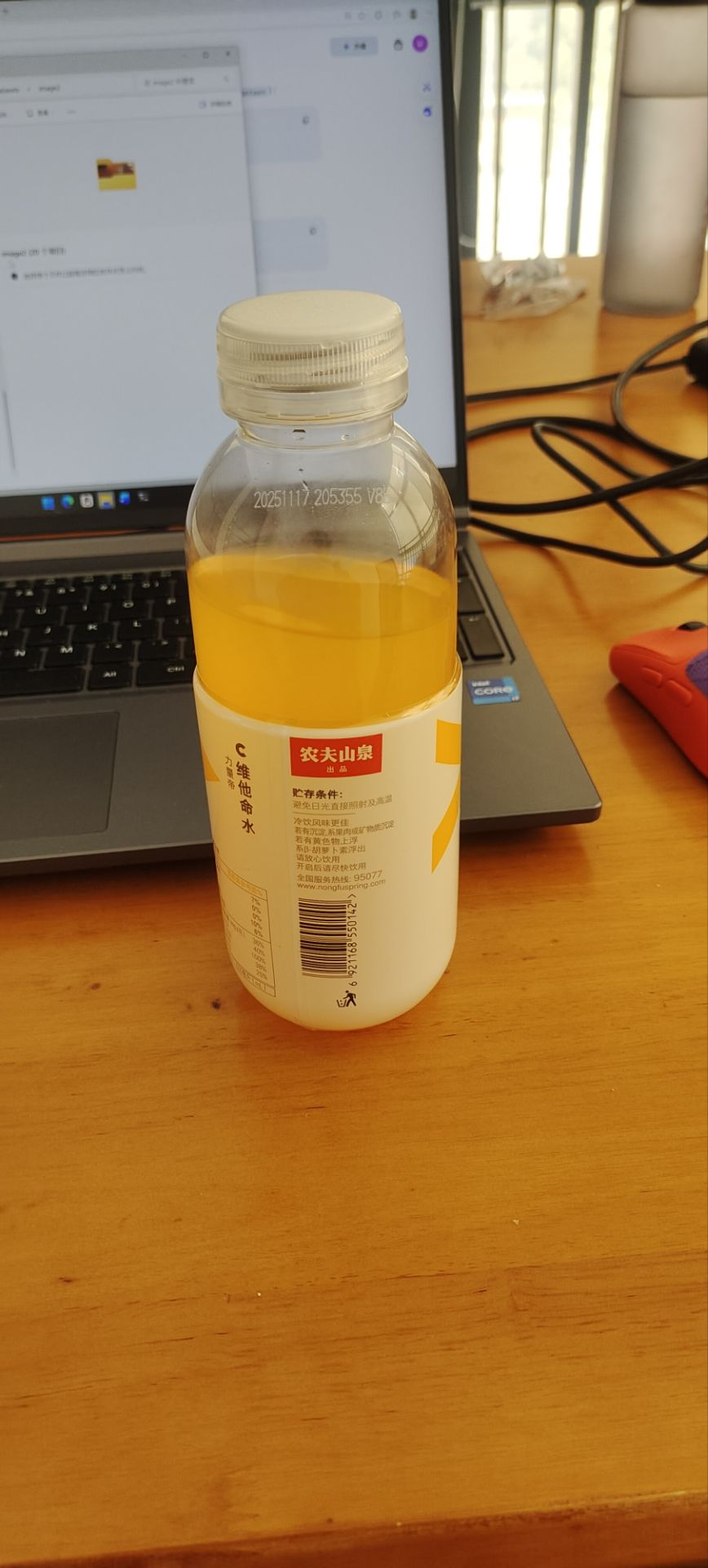redbull: (167, 295, 480, 1040)
